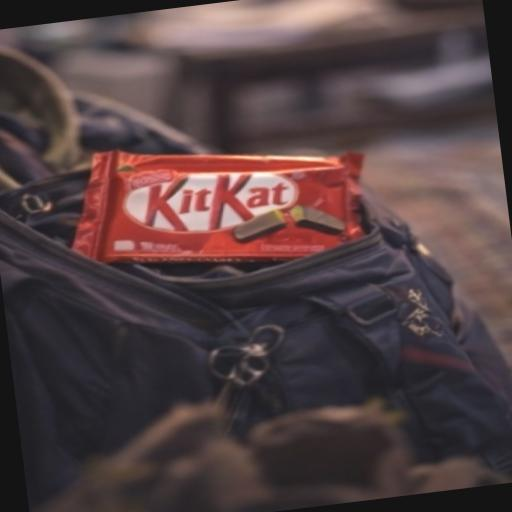kitkat: (22, 81, 446, 337)
